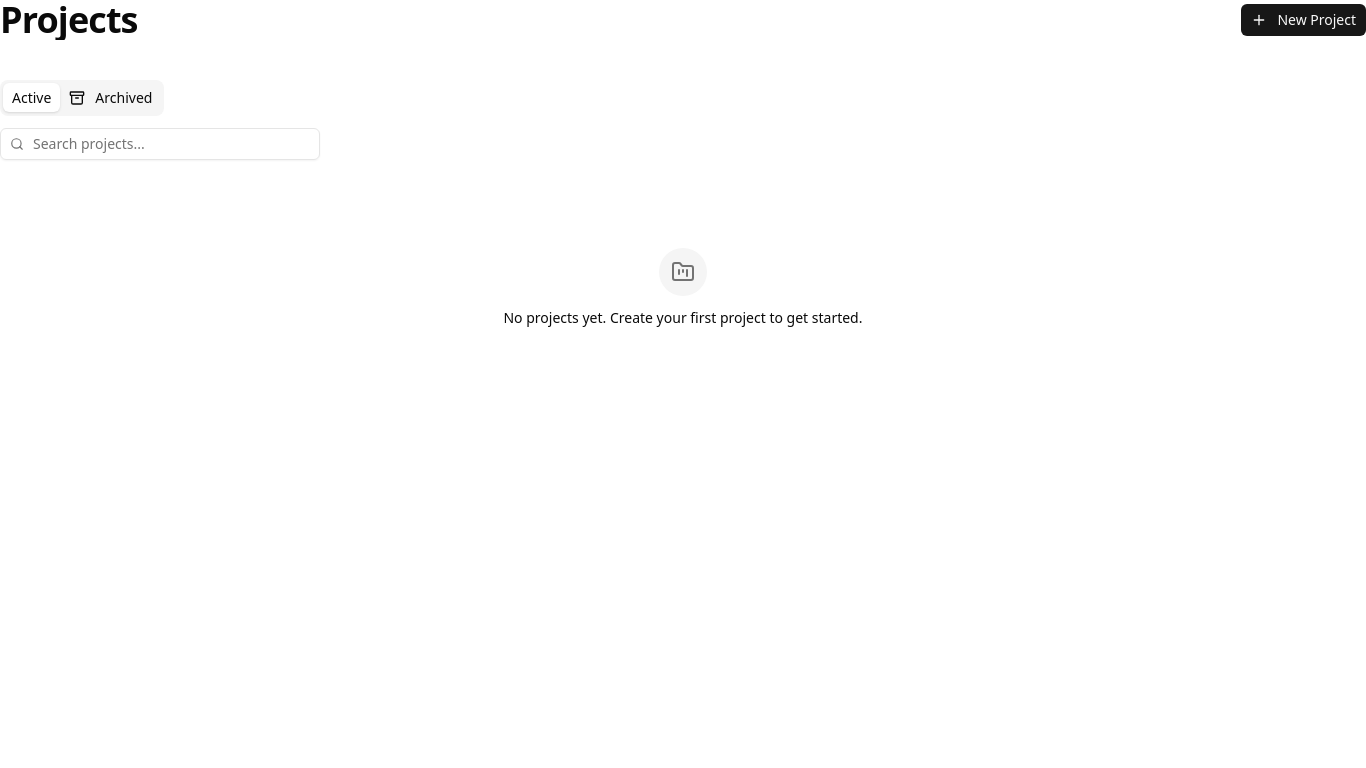
Test: ProjectsPage › includes a dialog description for the create project modal
Click the button "New Project". click: click(1304, 20)
box: [1241,4,1365,36]
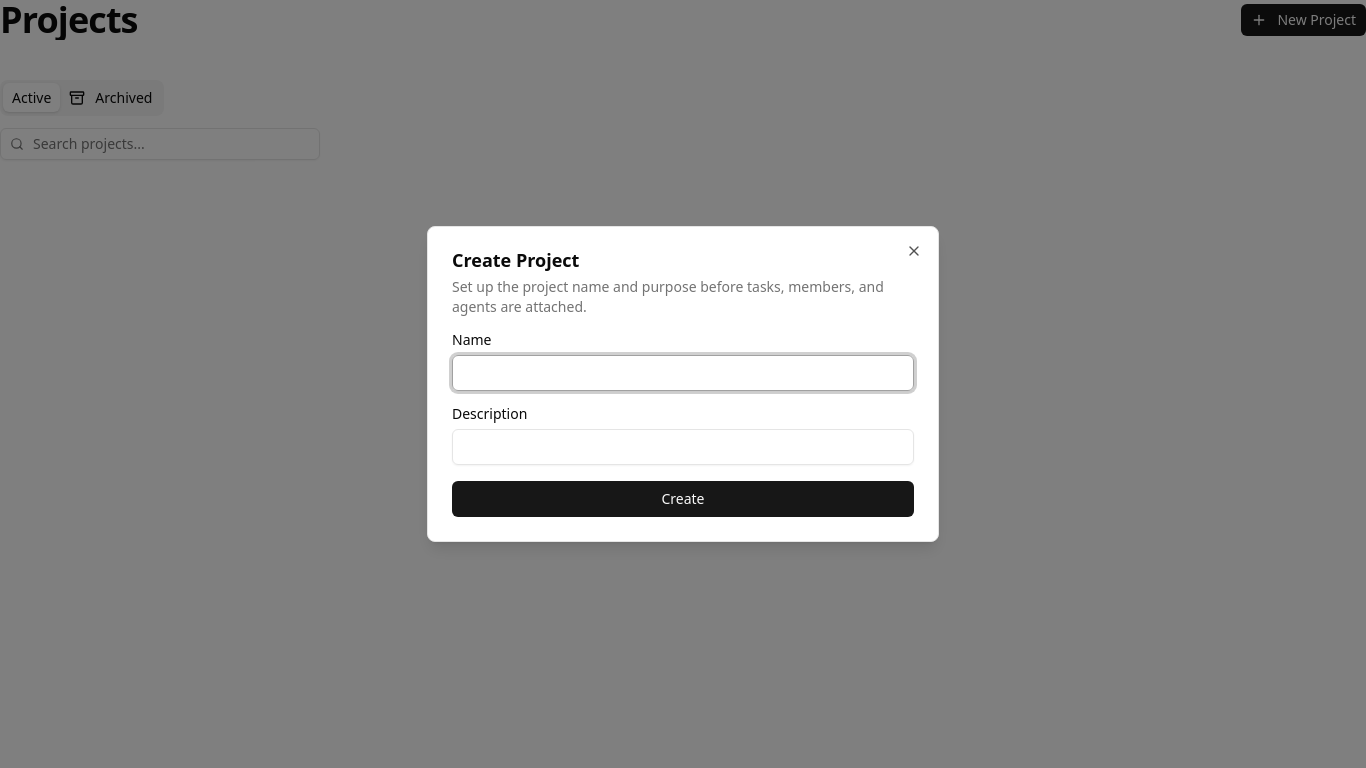
Expected: the text "Set up the project name and purpose before tasks, members, and agents are attached." is shown, [452,277,884,316]
